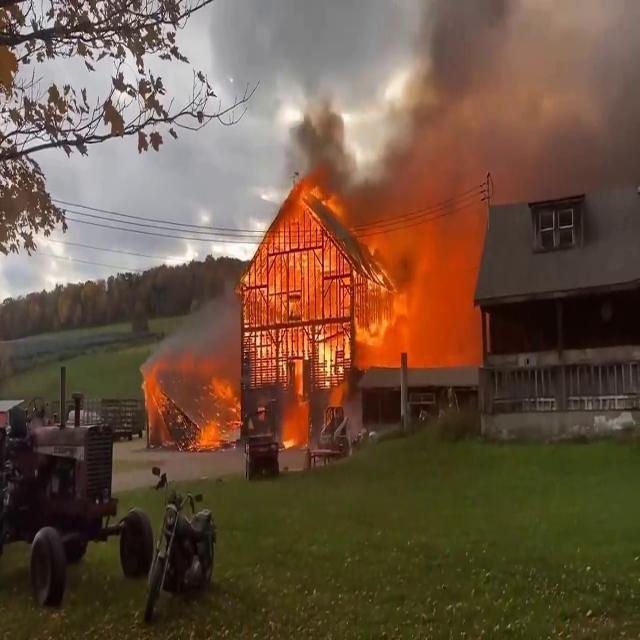Fire: (255, 180, 430, 380), (138, 348, 242, 450), (277, 377, 315, 459)
Smoke: (393, 0, 640, 260), (280, 84, 370, 190)
